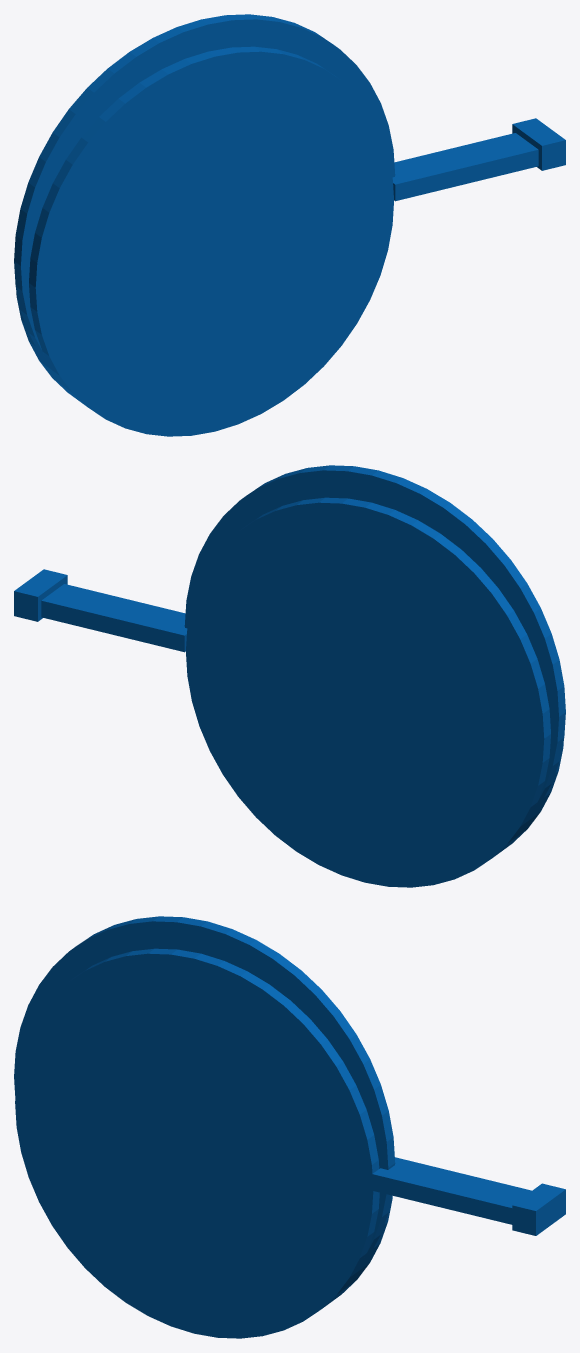
Rendered from cast_iron_skillet.glb.
3 views of the same model, one above another, from view 1: azimuth 30°, elevation 25°; view 2: azimuth 150°, elevation 25°; view 3: azimuth 330°, elevation 25° (orthographic).
Parts seen in each view (by area): view 1: world; view 2: world; view 3: world.
Boxes of the visible parts, bbox=[...] form: world: bbox=[14, 14, 565, 436]; world: bbox=[14, 465, 565, 887]; world: bbox=[14, 916, 565, 1338].
Bounding box in the file's own units: 1.34 × 0.965 × 0.13.
